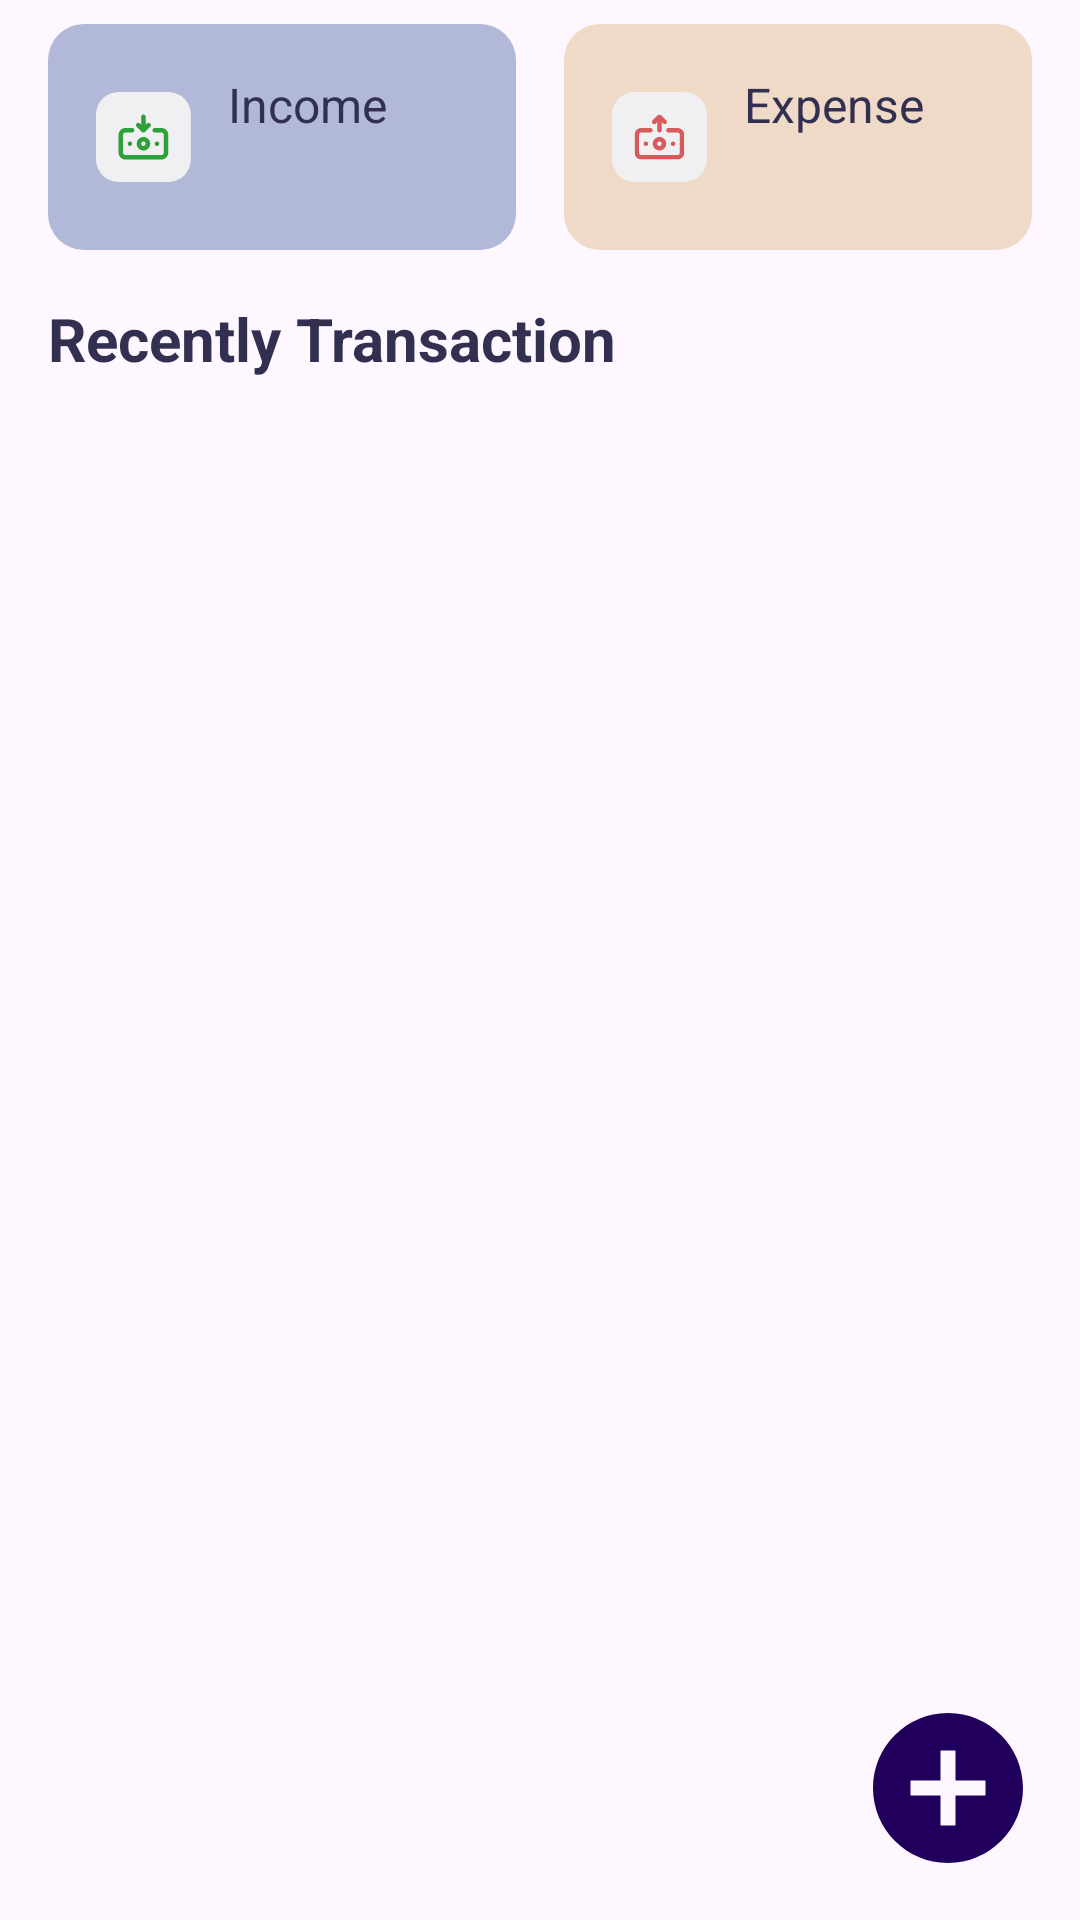

Icon bounding boxes for this 1080px×1920px phone screenshot, format (x1, y1, x2, y2):
add circle: (873, 1713, 1023, 1863)
